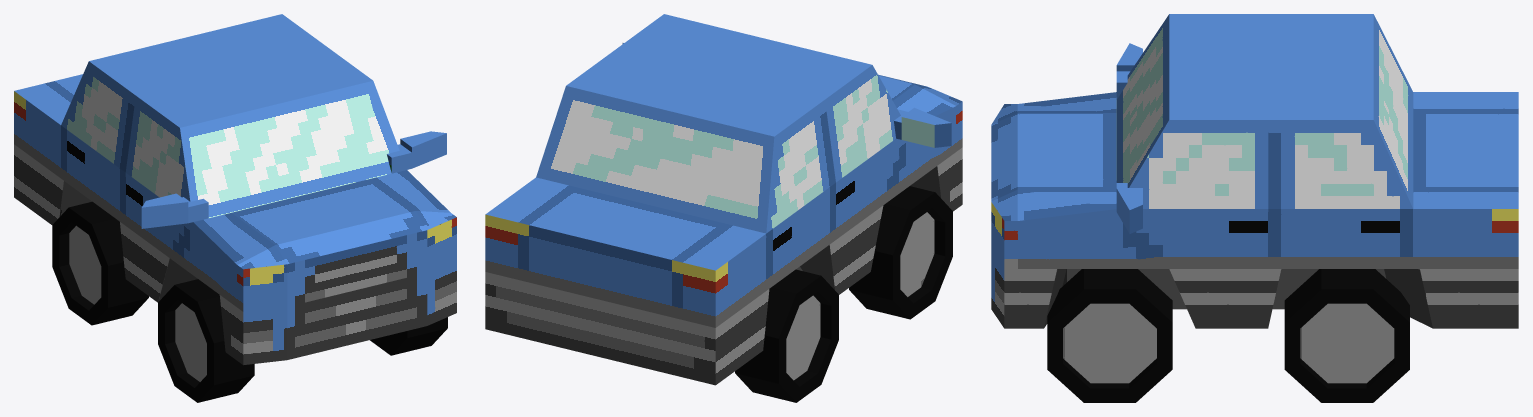
File: CAR.glb
The picture shows the model from 3 angles, left to right: view 1: azimuth 30°, elevation 25°; view 2: azimuth 150°, elevation 25°; view 3: azimuth 270°, elevation 25°; orthographic projection. The views are drawn at different scales.
Parts seen in each view (by area): view 1: Body, cylinder (×3), MirrorRight, MirrorLeft; view 2: Body, cylinder (×2), MirrorRight; view 3: Body, cylinder (×2), MirrorLeft, MirrorRight.
Part boxes in pixels (x1,y1,x2,y2): Body: (14,14,456,365); cylinder (×3): (52,201,447,402); MirrorRight: (141,193,208,228); MirrorLeft: (387,131,446,173); Body: (485,14,962,385); cylinder (×2): (735,186,952,402); MirrorRight: (894,107,951,147); Body: (991,14,1518,328); cylinder (×2): (1047,269,1409,402); MirrorLeft: (1116,183,1142,233); MirrorRight: (1116,43,1142,99).
Size of the model in its own units: 1.88 by 1.42 by 2.5.
Materials: 1 (1 with a texture image).
